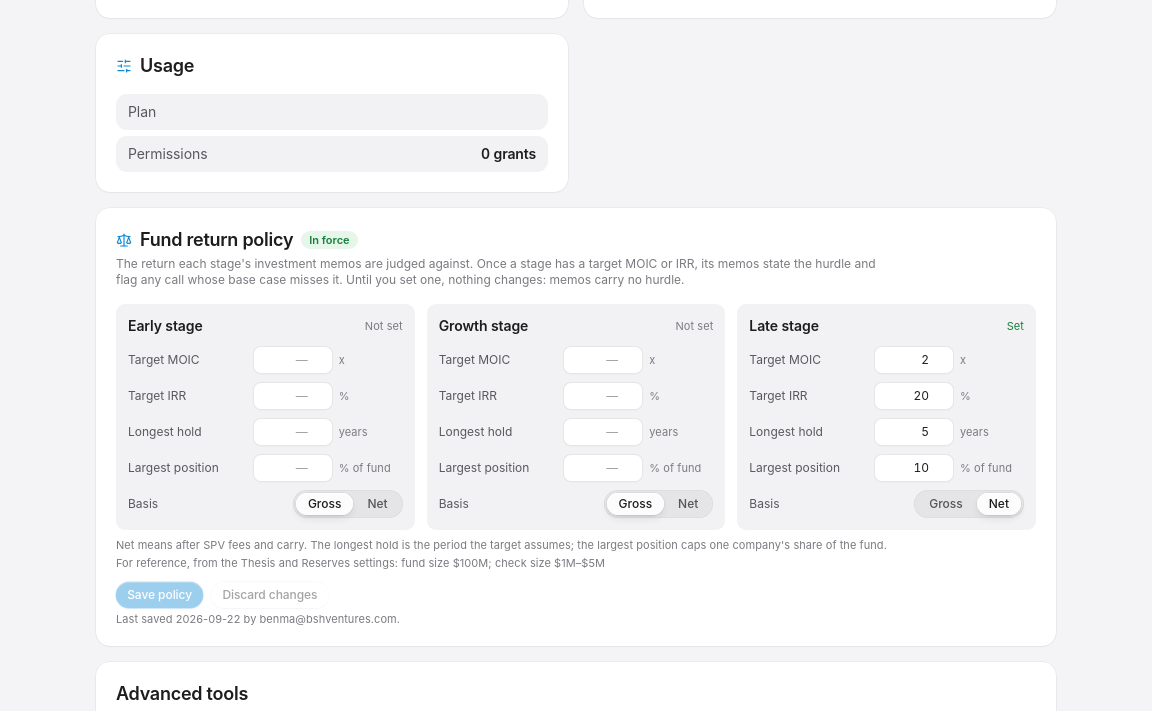
Scenario: Settings fund return policy › clears a stage whose numbers are all removed
(page scrolled)
Clear the number field with test id "fund-policy-late-target_moic". click: [914, 360]
box: left=874, top=346, right=954, bottom=374
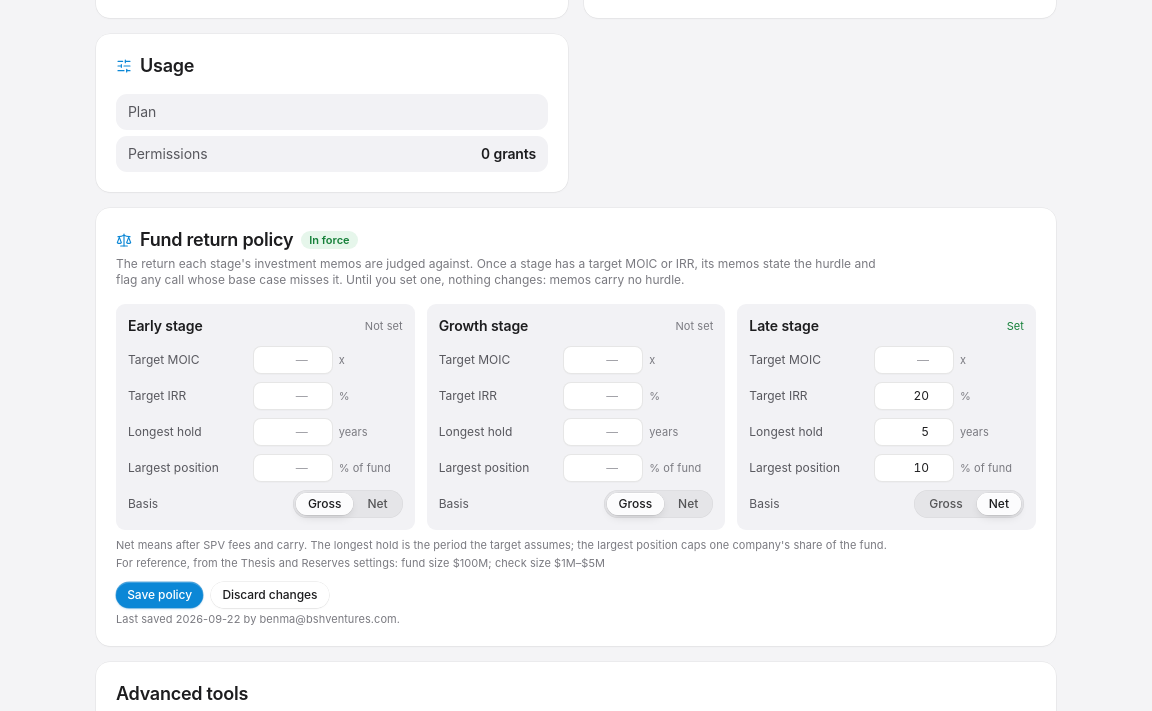
Clear the number field labelled "Target IRR %" below "Late stage". click: [914, 396]
box: left=874, top=382, right=954, bottom=410
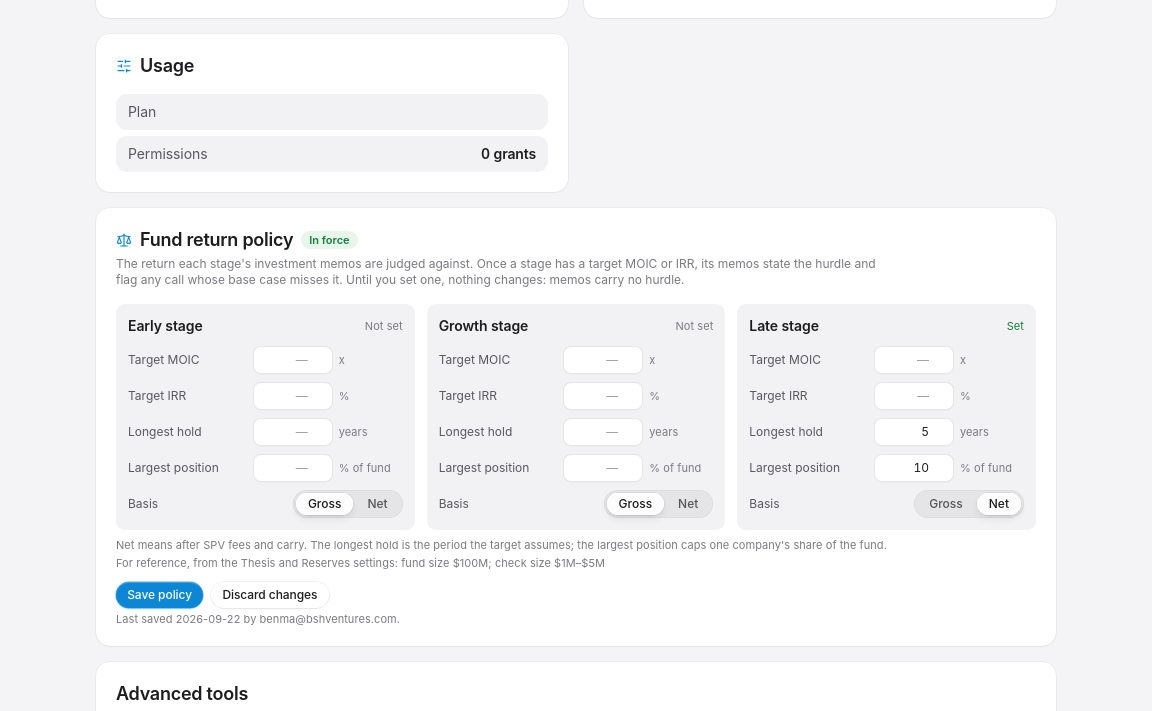
Clear the number field labelled "Longest hold years" below "Late stage". click: [914, 432]
box: left=874, top=418, right=954, bottom=446
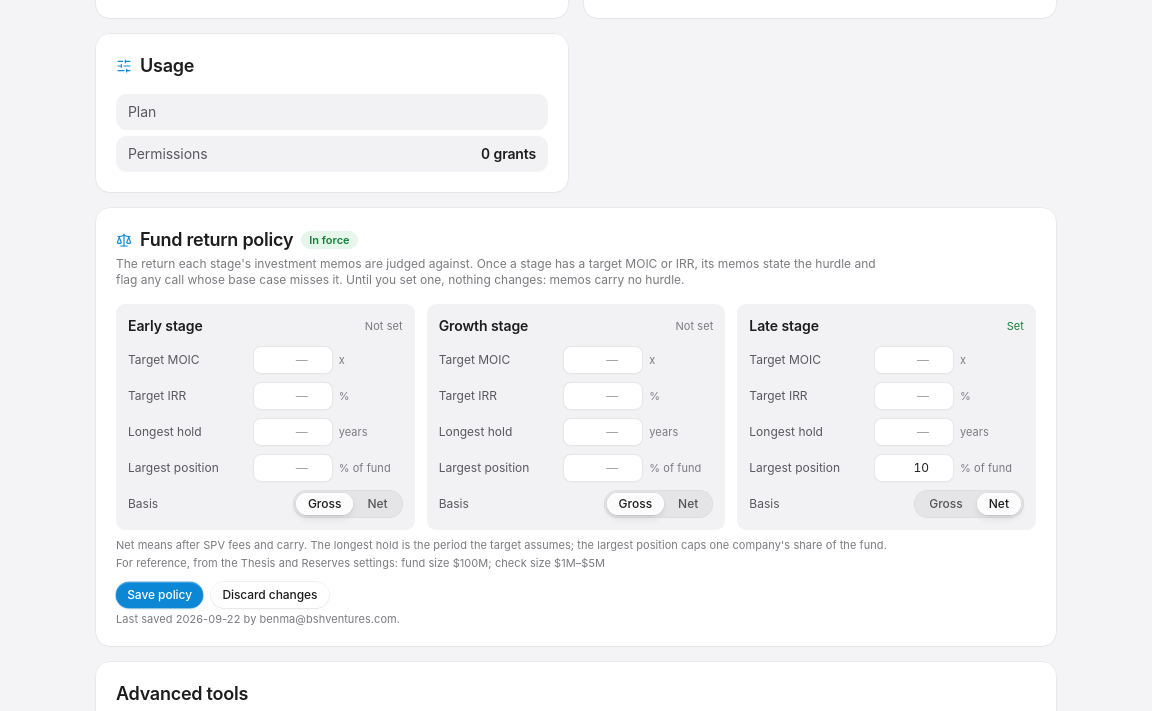
Clear the number field labelled "Largest position % of fund" below "Late stage". click: [914, 468]
box: left=874, top=454, right=954, bottom=482
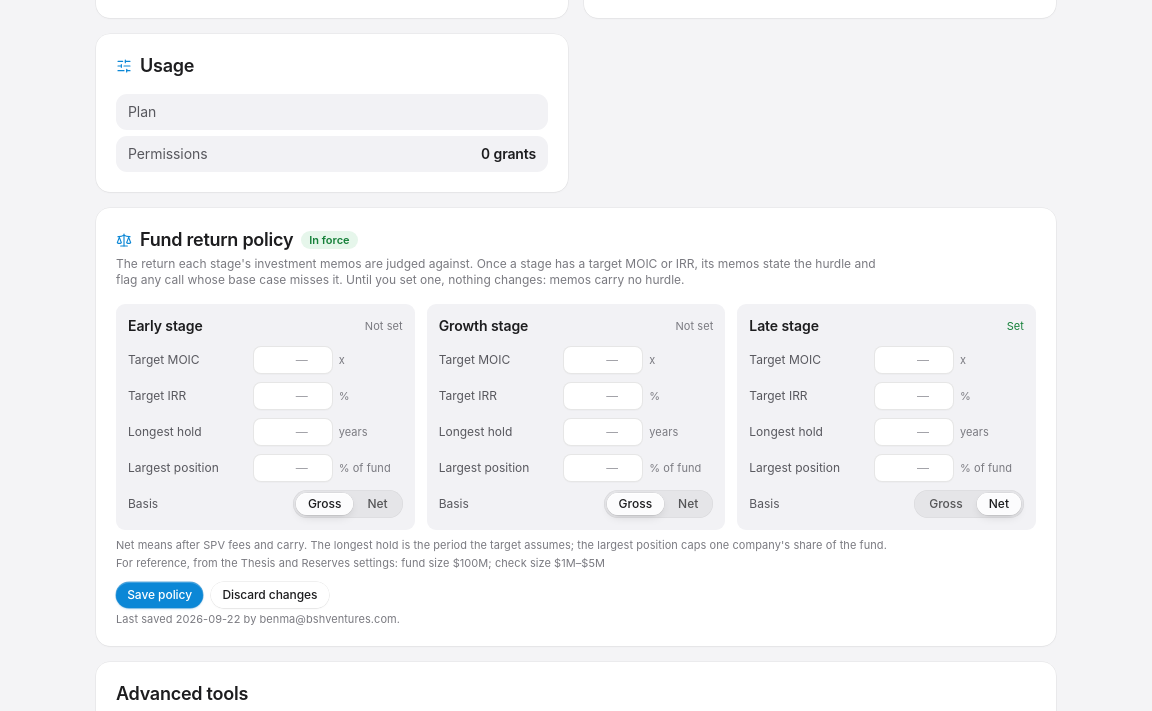
Click the button with test id "fund-policy-save". click: [160, 595]
box: left=116, top=582, right=203, bottom=608
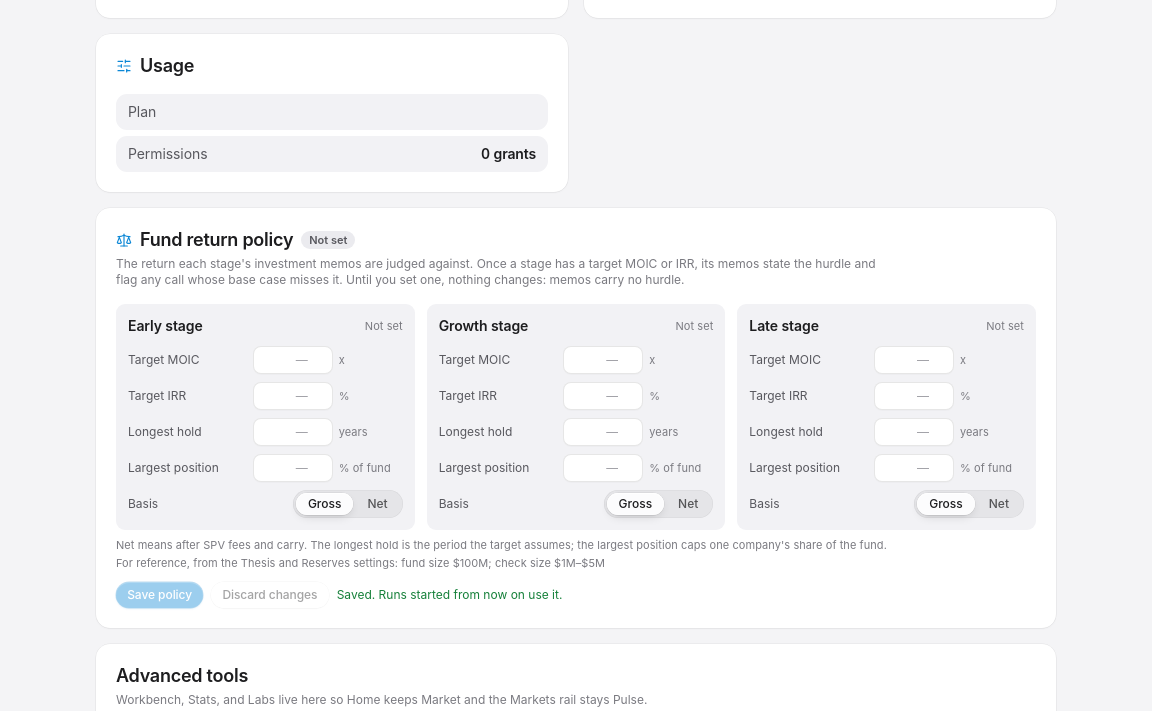
Expected: the text with test id "fund-policy-state" reads "Not set", left=309, top=233, right=347, bottom=247
